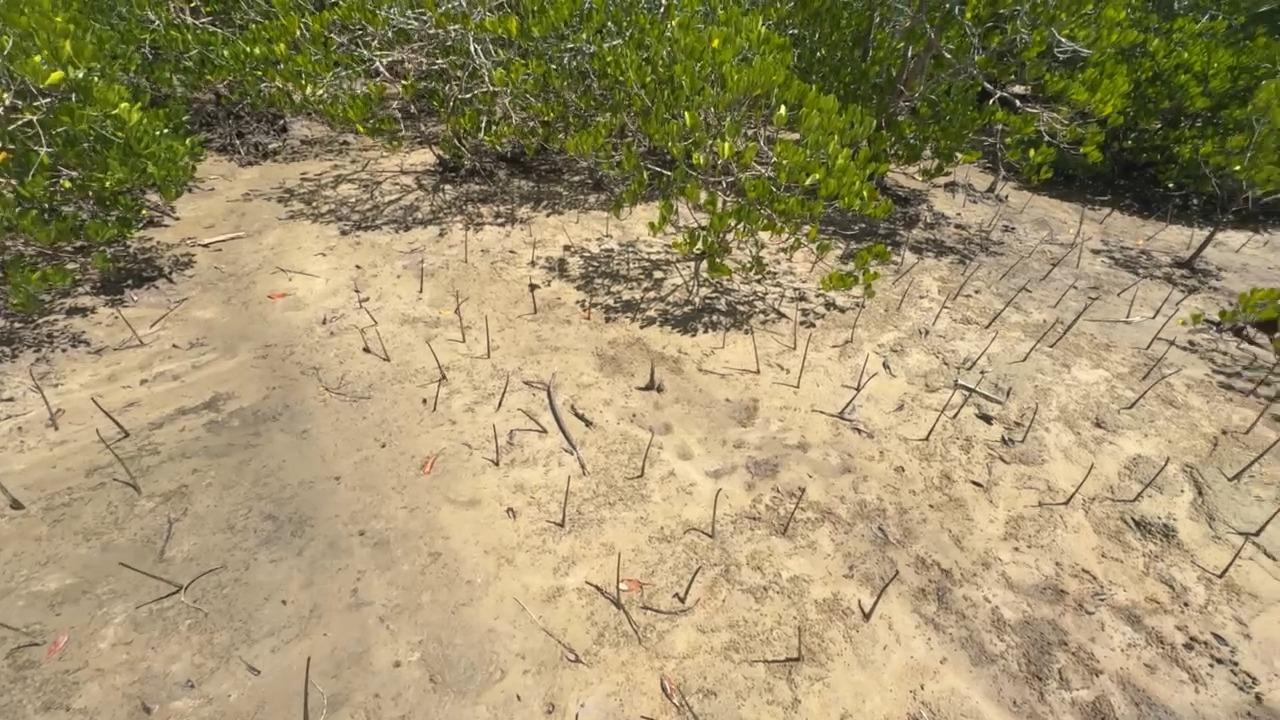Tree: (96, 427, 141, 492), (985, 279, 1031, 328), (1229, 438, 1280, 482), (1129, 368, 1183, 409), (117, 561, 183, 589), (1050, 302, 1089, 348), (864, 569, 899, 620), (925, 386, 958, 440), (838, 372, 879, 414), (1132, 456, 1169, 502), (29, 368, 56, 430), (1021, 318, 1059, 362), (91, 396, 131, 437), (850, 283, 876, 343), (1142, 336, 1177, 380), (1146, 307, 1180, 350), (952, 375, 985, 419), (1041, 243, 1078, 280), (966, 331, 998, 371), (1245, 361, 1280, 397), (1219, 536, 1248, 578), (1065, 462, 1093, 504), (782, 487, 806, 535), (952, 264, 982, 300), (116, 306, 144, 344), (0, 623, 46, 644), (1244, 403, 1271, 435), (797, 332, 812, 388), (425, 341, 447, 379), (517, 408, 549, 434), (892, 257, 920, 285), (1053, 278, 1079, 308), (1152, 284, 1174, 319), (809, 241, 833, 273), (682, 565, 702, 603), (1255, 508, 1280, 538), (640, 428, 655, 477), (1073, 293, 1101, 319), (1021, 401, 1038, 443), (0, 482, 25, 509), (494, 371, 510, 413), (932, 291, 951, 326), (999, 256, 1024, 280), (1070, 206, 1085, 246), (304, 656, 313, 720), (711, 487, 722, 538), (898, 277, 915, 310), (1116, 277, 1144, 297), (349, 324, 370, 350), (374, 327, 390, 361), (856, 352, 870, 390), (1028, 232, 1049, 257), (456, 290, 466, 342), (1019, 188, 1038, 214), (750, 325, 760, 374), (1175, 286, 1198, 307), (562, 475, 571, 527), (961, 251, 980, 275), (1125, 287, 1138, 318), (238, 655, 259, 673), (529, 274, 538, 315), (615, 551, 621, 610), (987, 213, 1002, 236), (1235, 234, 1253, 253), (1146, 226, 1167, 241), (899, 236, 909, 267), (492, 423, 499, 467), (432, 378, 441, 412), (1076, 231, 1084, 269), (1099, 206, 1115, 225), (136, 695, 151, 715), (987, 205, 1000, 228), (562, 223, 574, 247), (363, 307, 378, 325), (962, 175, 970, 208), (454, 297, 469, 314), (1185, 230, 1196, 251), (485, 314, 490, 359), (648, 358, 655, 390), (354, 282, 362, 308), (587, 292, 594, 320), (794, 303, 798, 350), (419, 257, 424, 293), (531, 237, 537, 263), (526, 211, 532, 237), (997, 180, 1008, 194), (797, 625, 801, 662), (1165, 204, 1171, 228), (464, 229, 468, 263), (952, 168, 956, 199), (964, 165, 971, 180), (1191, 212, 1196, 229), (640, 715, 654, 720), (722, 327, 725, 349), (606, 213, 608, 238), (576, 209, 579, 223)
